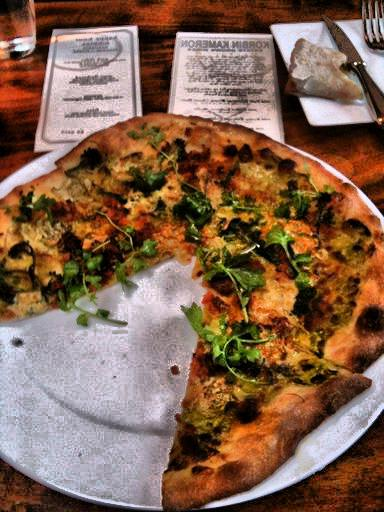pizza: (2, 118, 378, 496)
